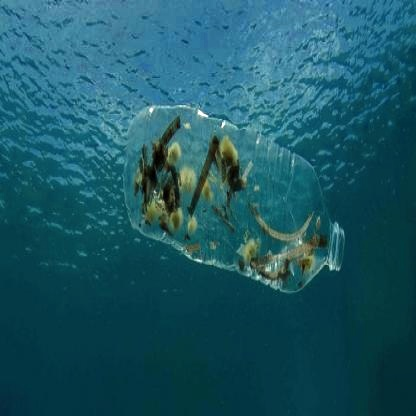pbottle: (118, 86, 347, 320)
